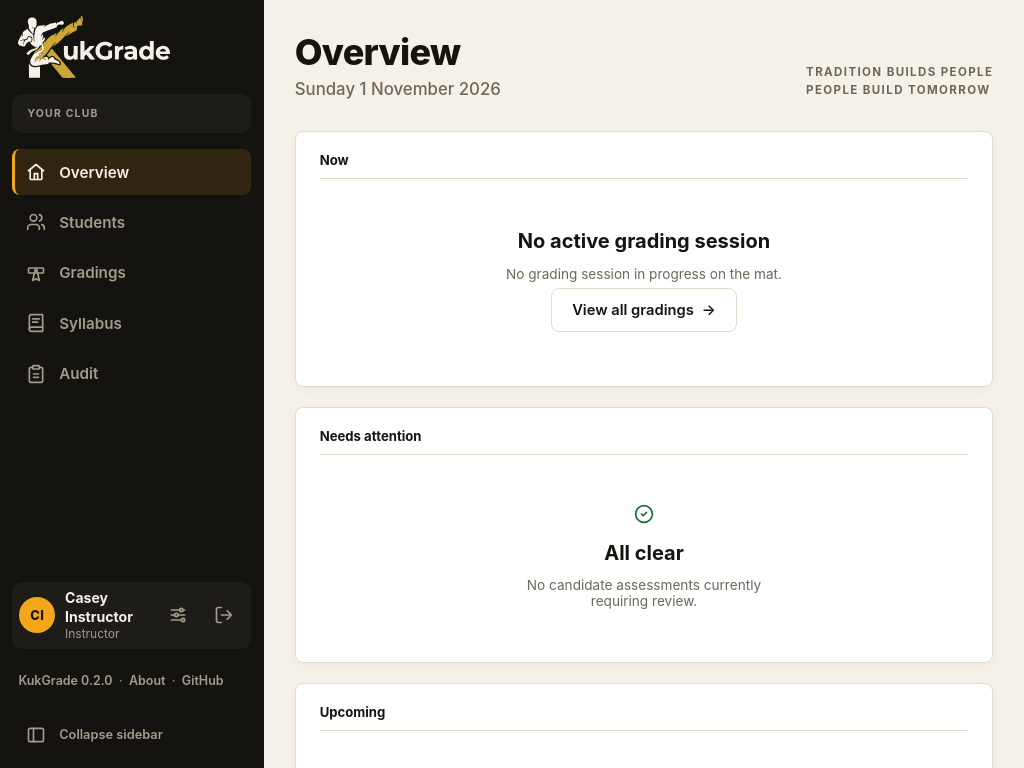
Navigation rail and role-gated routes › grants Audit access and displays the Audit link for an Authorised Master
expect the text "Casey Instructor" is shown: met, box [65,589,133,624]
Click the link "Audit" at (62, 374), box [26,364,98,384]
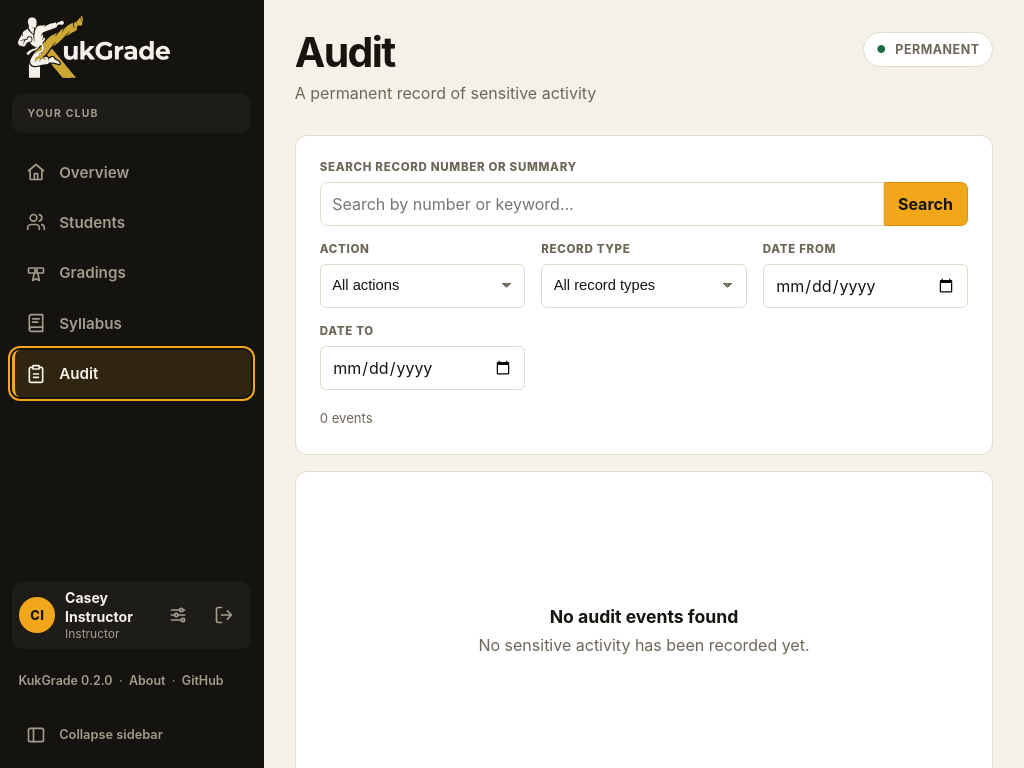
expect the heading "Audit" is shown: met, box [295,27,394,77]
